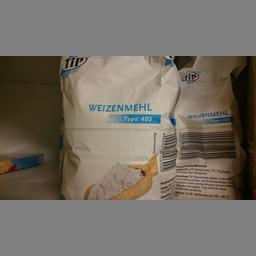flour: (58, 55, 180, 198), (172, 56, 246, 198)
